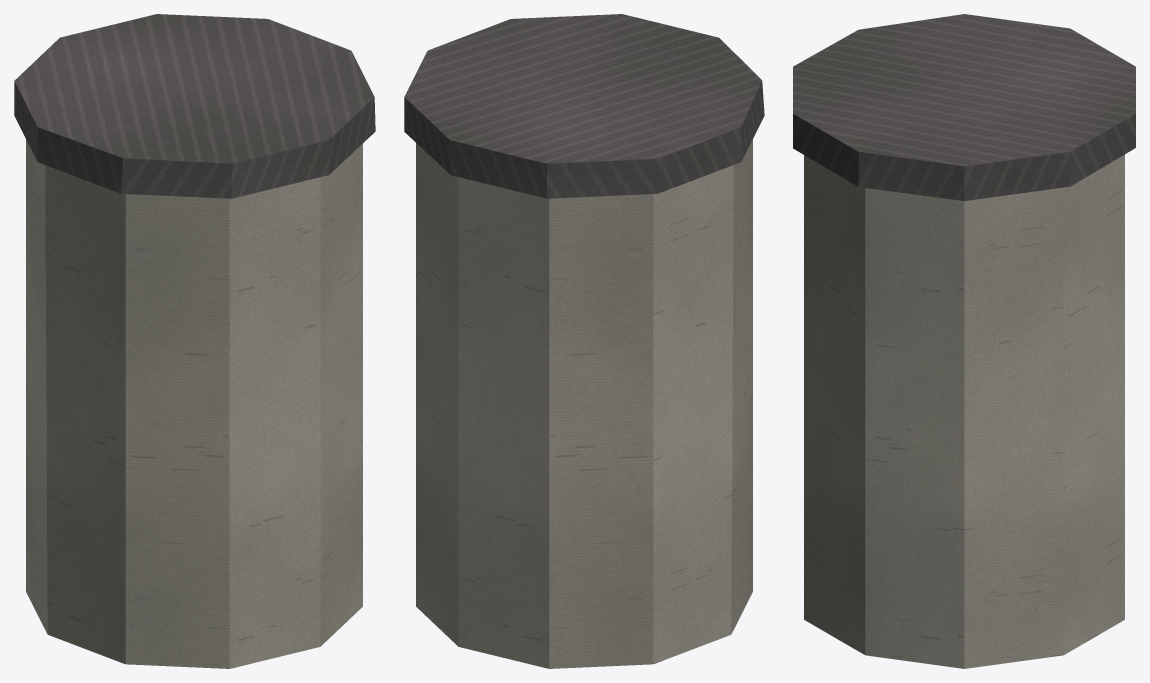
Rendered from trashcan_v2.glb.
3 renders of one model, left to right at view 1: azimuth 30°, elevation 25°; view 2: azimuth 150°, elevation 25°; view 3: azimuth 270°, elevation 25°, orthographic.
Visible parts, largest first — view 1: Variant_trashcan_2; view 2: Variant_trashcan_2; view 3: Variant_trashcan_2.
Boxes of the visible parts, x1,y1,x2,y2 form: Variant_trashcan_2: (14,14,375,668); Variant_trashcan_2: (404,14,764,668); Variant_trashcan_2: (793,14,1135,668).
Size of the model in its own units: 0.47 by 0.73 by 0.447.
Materials: 2 (2 with a texture image).
